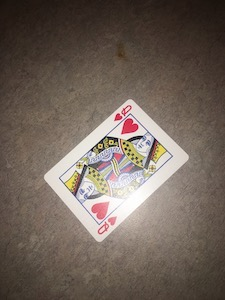QueenOfHearts: (39, 97, 193, 241)
